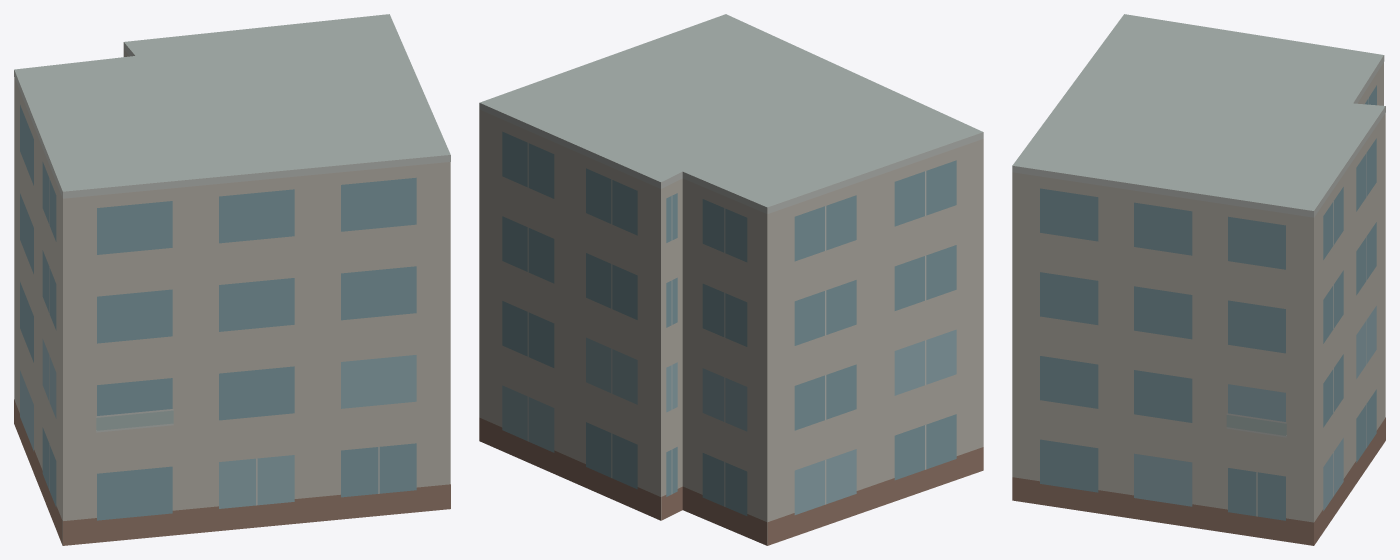
The model's file is survey-upis-32868436.glb.
The picture shows the model from 3 angles, left to right: view 1: azimuth 30°, elevation 25°; view 2: azimuth 150°, elevation 25°; view 3: azimuth 270°, elevation 25°; orthographic projection. The views are drawn at different scales.
Parts seen in each view (by area): view 1: survey-upis-32868436.tmp; view 2: survey-upis-32868436.tmp; view 3: survey-upis-32868436.tmp.
Boxes of the visible parts, x1,y1,x2,y2 form: survey-upis-32868436.tmp: (14, 14, 450, 545); survey-upis-32868436.tmp: (479, 14, 983, 545); survey-upis-32868436.tmp: (1012, 14, 1385, 545).
Bounding box in the file's own units: 15.54 × 12.3 × 12.44.
